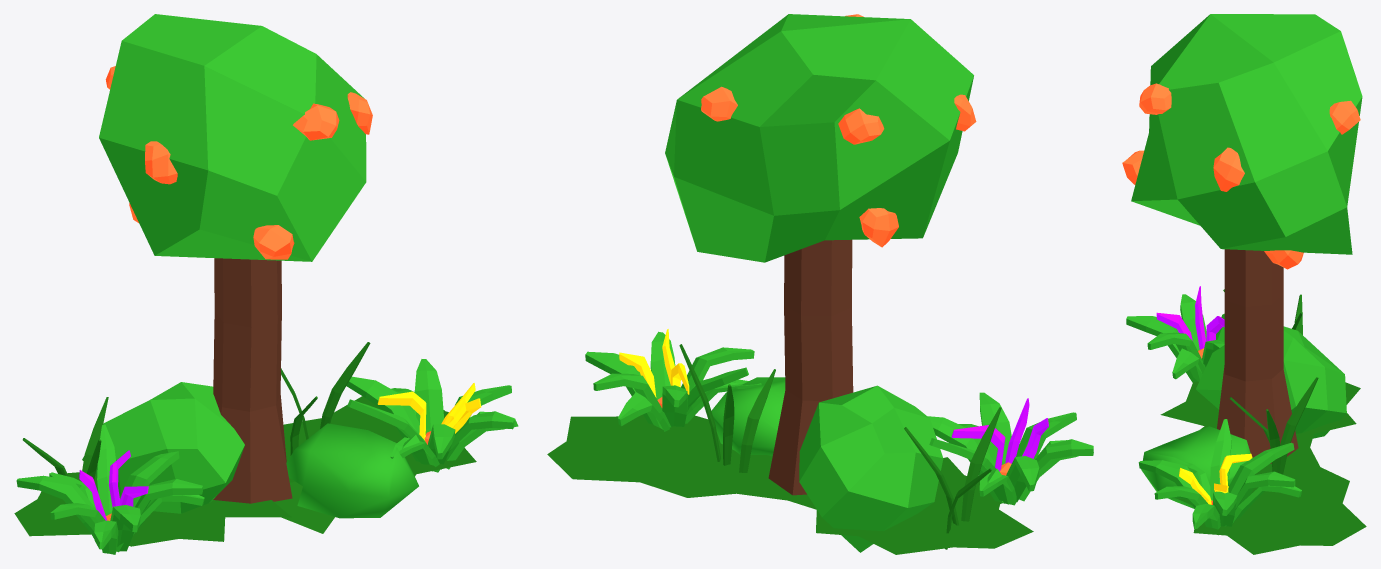
The model's file is BiggerPlant.glb.
The picture shows the model from 3 angles, left to right: view 1: azimuth 30°, elevation 25°; view 2: azimuth 150°, elevation 25°; view 3: azimuth 270°, elevation 25°; orthographic projection. The views are drawn at different scales.
Parts seen in each view (by area): view 1: Cylinder.004; view 2: Cylinder.004; view 3: Cylinder.004.
Boxes of the visible parts, x1,y1,x2,y2 form: Cylinder.004: [14, 14, 518, 554]; Cylinder.004: [547, 14, 1093, 554]; Cylinder.004: [1122, 14, 1366, 554].
Size of the model in its own units: 1.95 by 1.88 by 0.9616.
